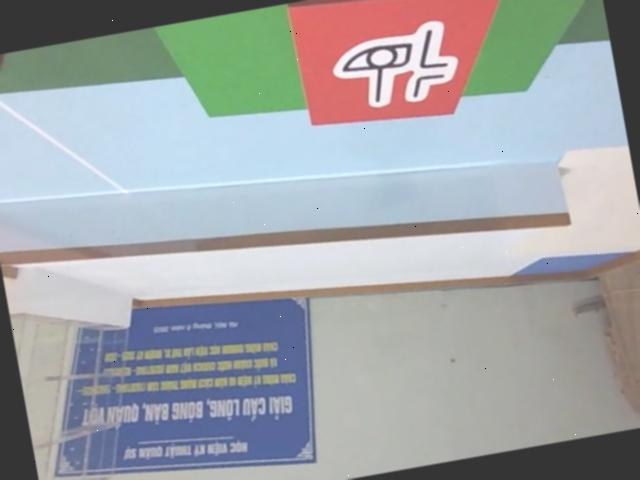R2 Real: (288, 0, 522, 140)
